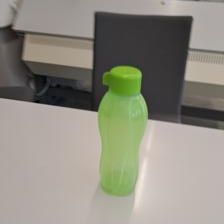bottle: (92, 63, 148, 196)
